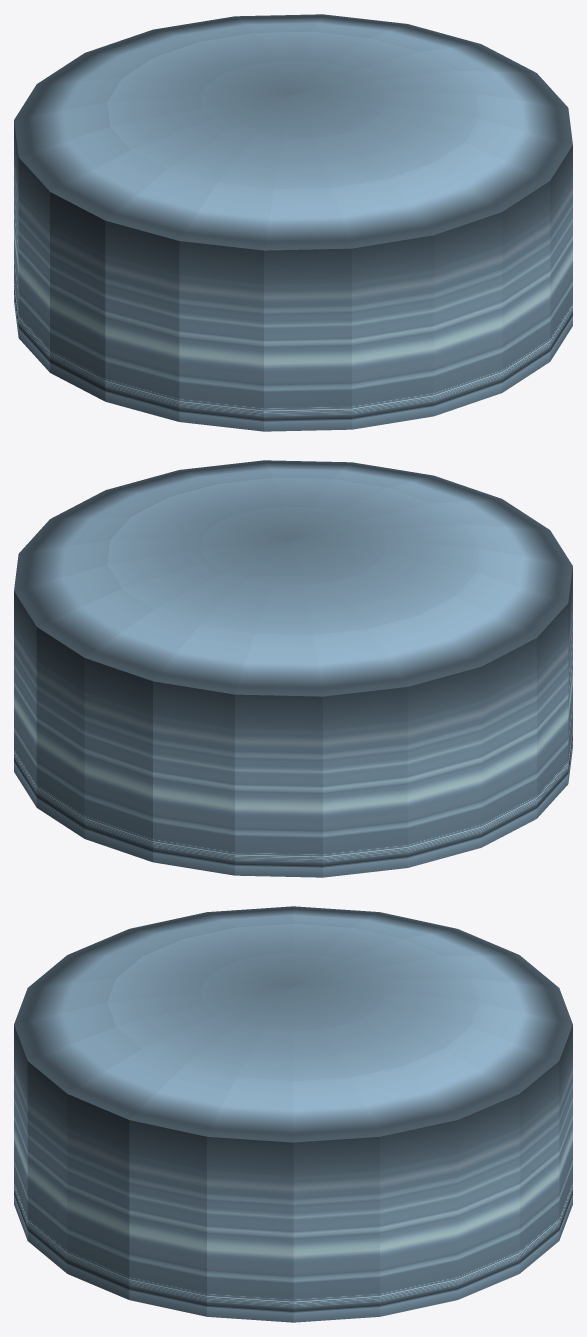
The model's file is dome.obj.
3 views of the same model, one above another, from view 1: azimuth 30°, elevation 25°; view 2: azimuth 150°, elevation 25°; view 3: azimuth 270°, elevation 25° (orthographic).
Size of the model in its own units: 10.57 by 4.54 by 10.57.
